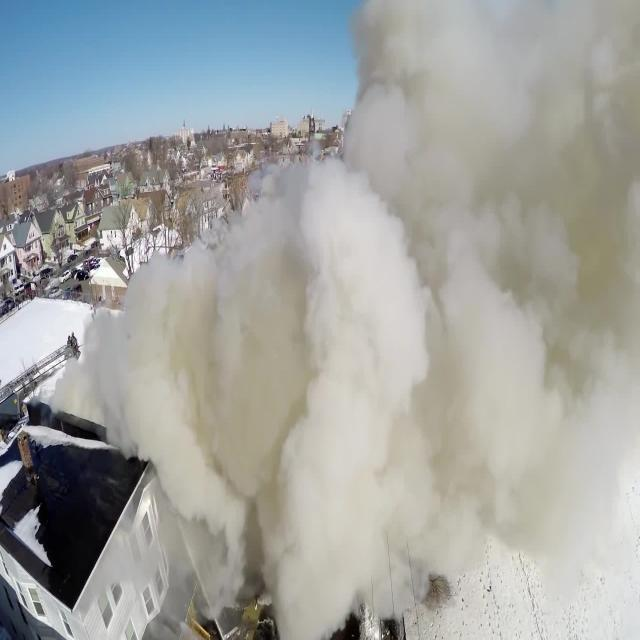Smoke: (356, 5, 638, 489), (129, 225, 423, 578)
